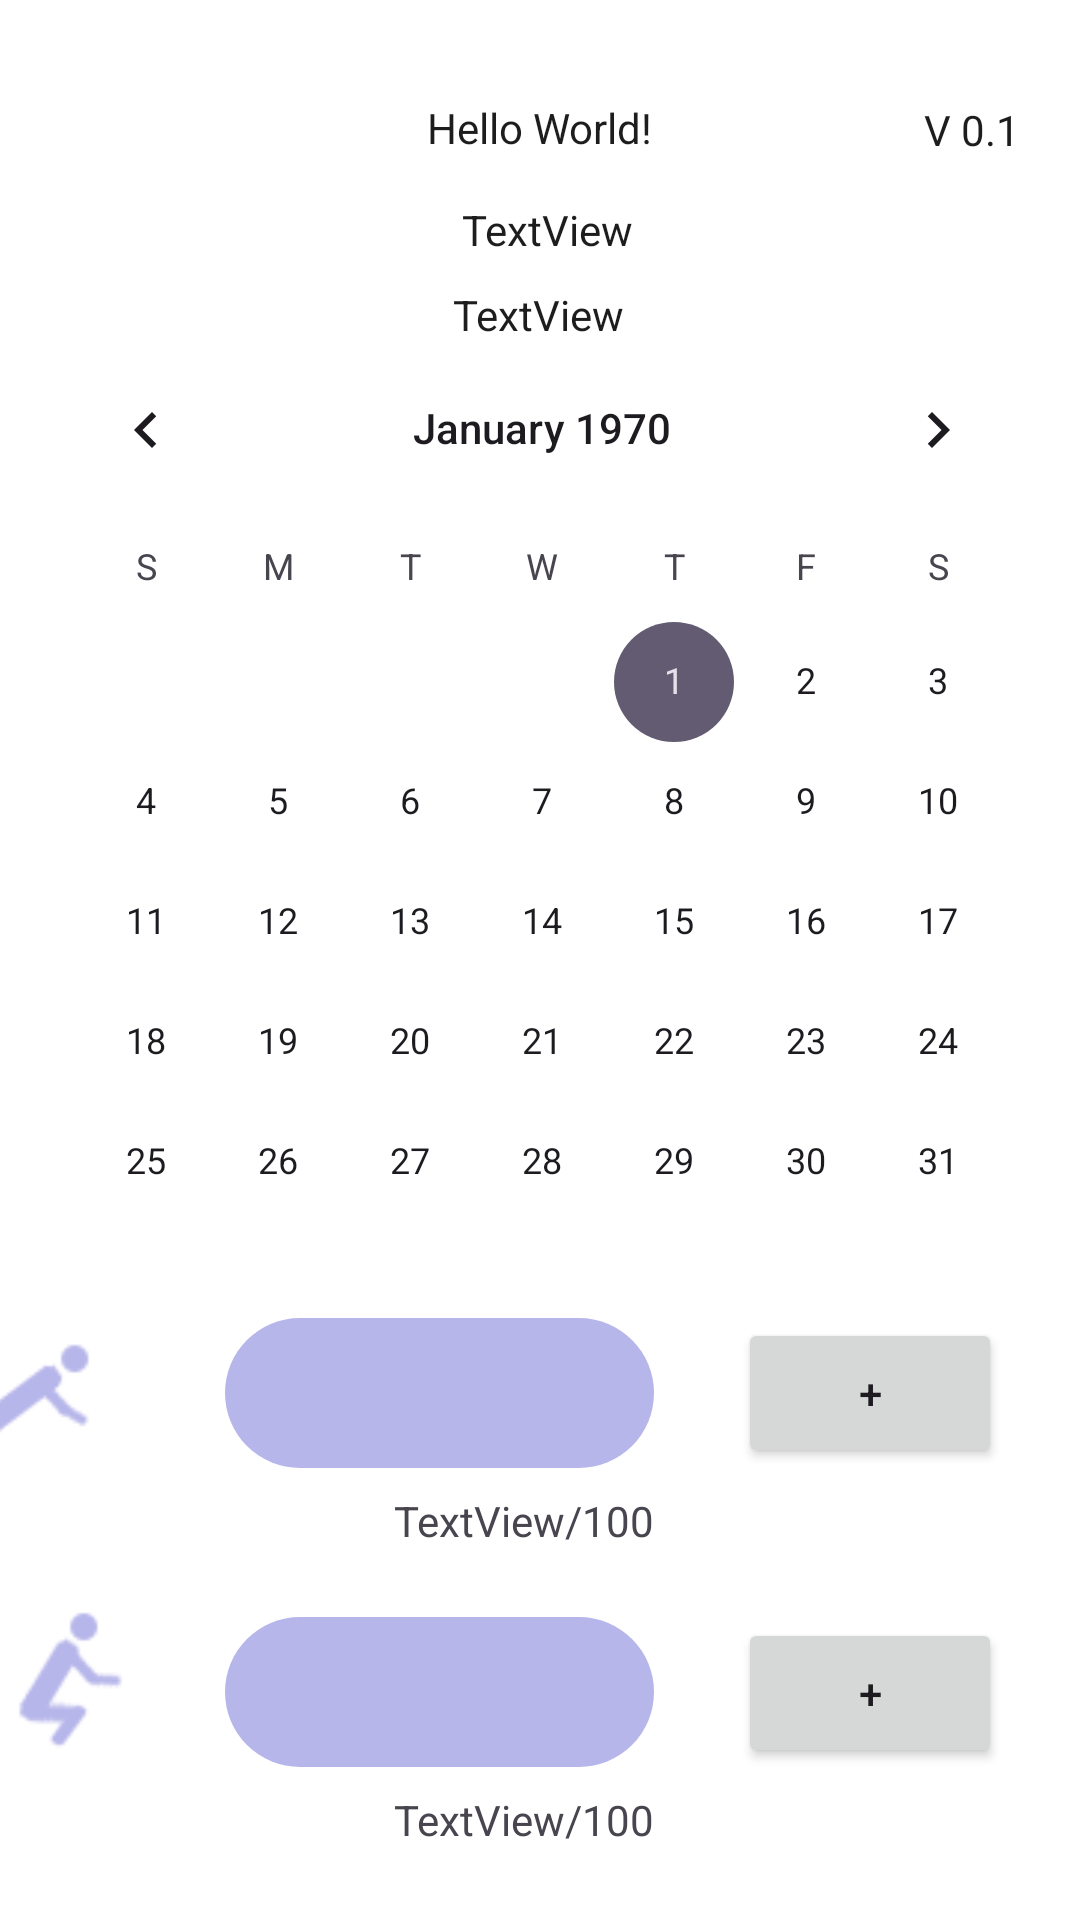

Locate icon controls on the screen. Image size 1080*1920, boxes as [left=x1, top=y1, right=x2, bottom=y2].
prisedania: [left=20, top=1613, right=121, bottom=1745]
